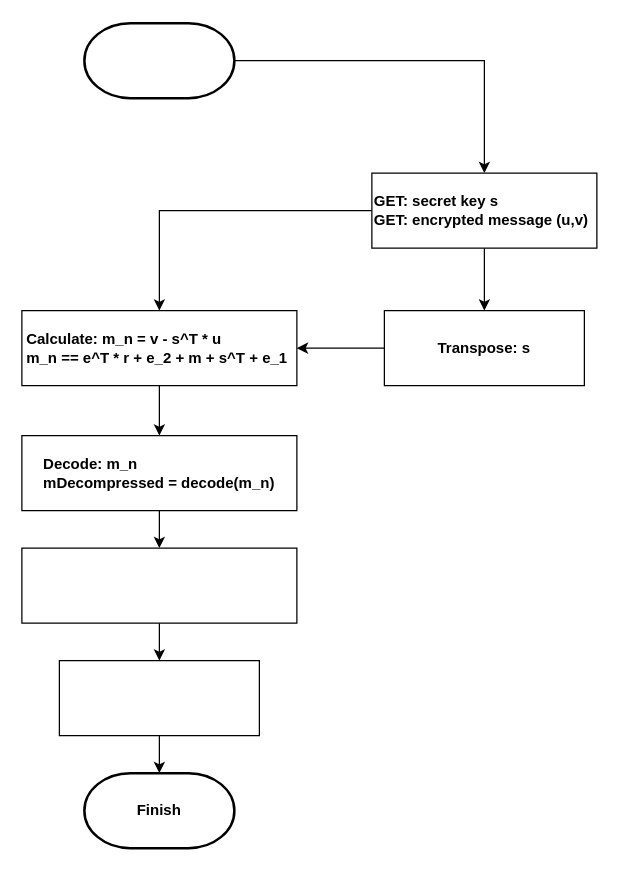
This 619x870 diagram has some shape labels left out. The centre of each missing label's shape, as x and y in pixels:
"Compress: mDecompressed m = compress(mDecompressed)" belongs at pixel 159 585.
"Output: m" belongs at pixel 158 697.
"Start" belongs at pixel 158 60.
